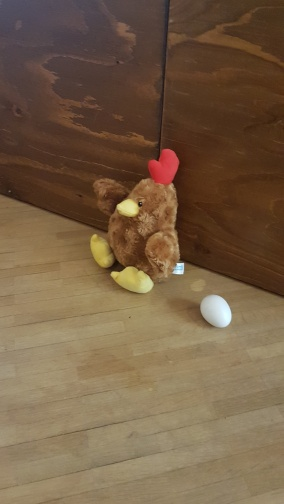chicken: (85, 146, 185, 295)
egg: (197, 292, 234, 329)
